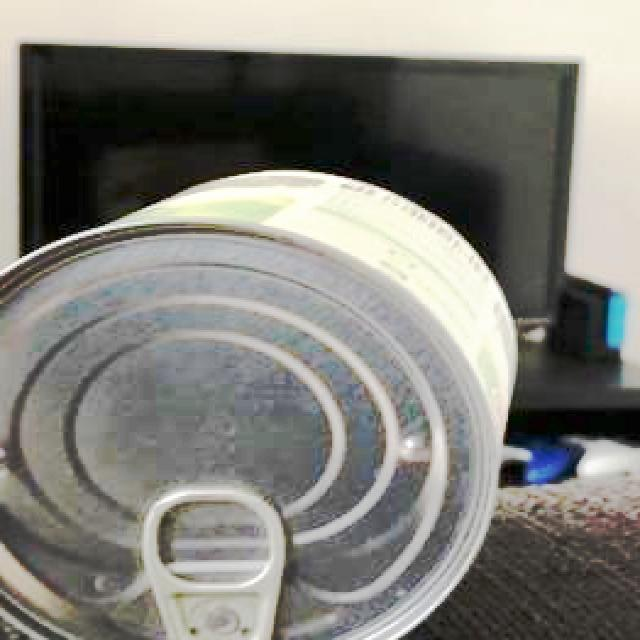Lata: (0, 167, 516, 640)
